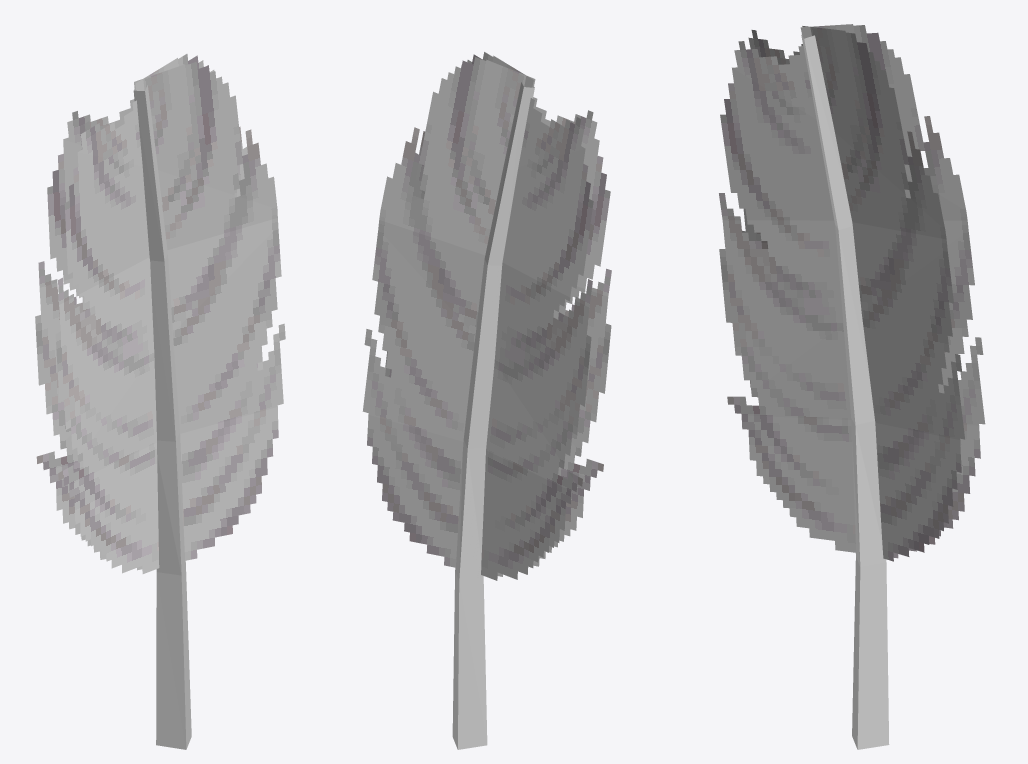
The model's file is arc0_12.glb.
The picture shows the model from 3 angles, left to right: view 1: azimuth 30°, elevation 25°; view 2: azimuth 150°, elevation 25°; view 3: azimuth 330°, elevation 25°; orthographic projection. The views are drawn at different scales.
Parts seen in each view (by area): view 1: arc0_12; view 2: arc0_12; view 3: arc0_12.
Part boxes in pixels (bbox=[...]): arc0_12: bbox=[35, 54, 285, 749]; arc0_12: bbox=[362, 52, 611, 749]; arc0_12: bbox=[719, 24, 985, 749].
Bounding box in the file's own units: 10.15 × 24.21 × 2.41.
Materials: 2 (1 with a texture image).
